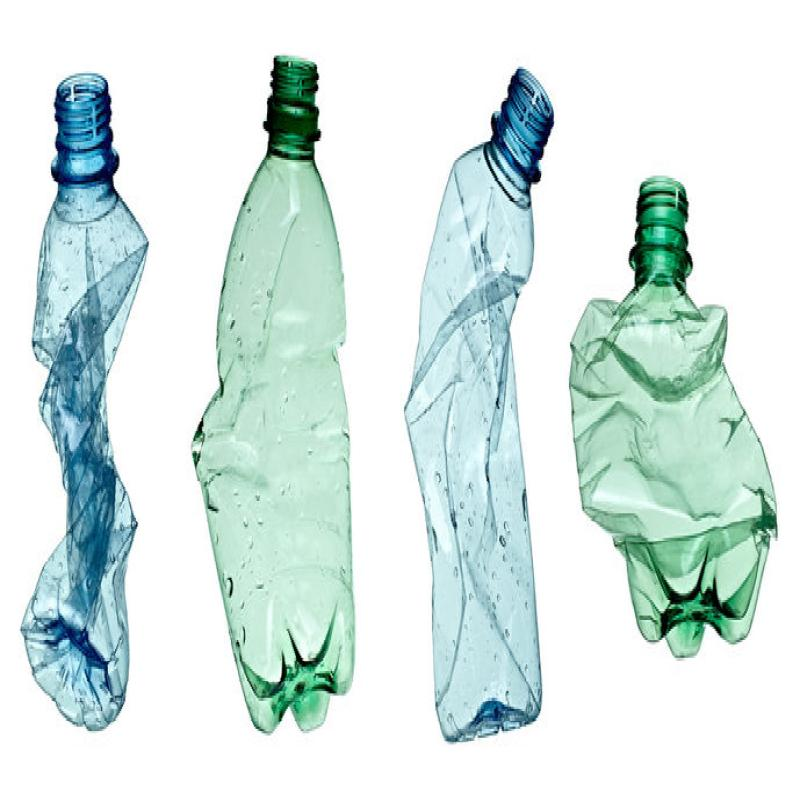botella: (192, 48, 358, 742), (399, 65, 555, 753), (572, 161, 778, 658), (29, 60, 150, 745)
